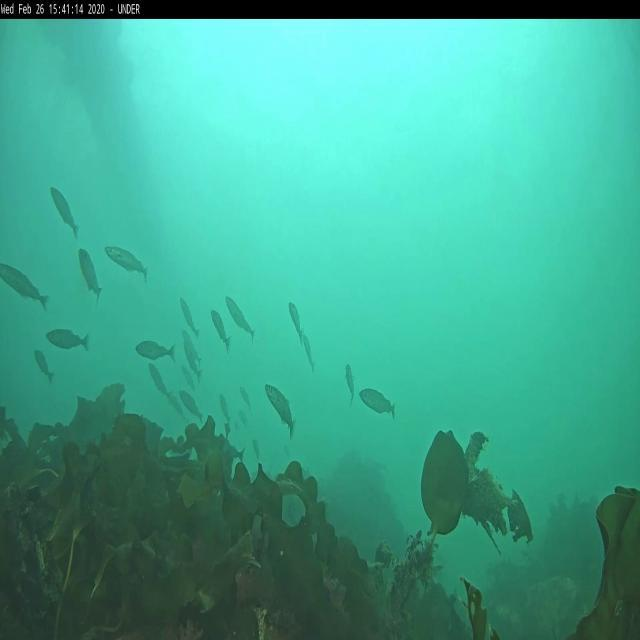fish: (0, 263, 49, 308), (103, 246, 148, 282), (267, 383, 296, 436), (49, 184, 78, 234), (359, 388, 398, 419), (79, 248, 101, 300), (227, 297, 254, 339), (210, 307, 230, 350), (48, 330, 91, 350), (178, 390, 205, 419), (34, 348, 54, 384), (181, 297, 199, 335), (137, 342, 174, 360), (182, 330, 202, 362), (168, 389, 186, 422), (288, 304, 302, 344), (184, 353, 202, 381), (149, 364, 166, 392), (304, 341, 316, 370), (238, 381, 250, 408), (346, 362, 354, 400), (254, 433, 262, 462), (218, 396, 228, 419), (238, 408, 248, 426)
